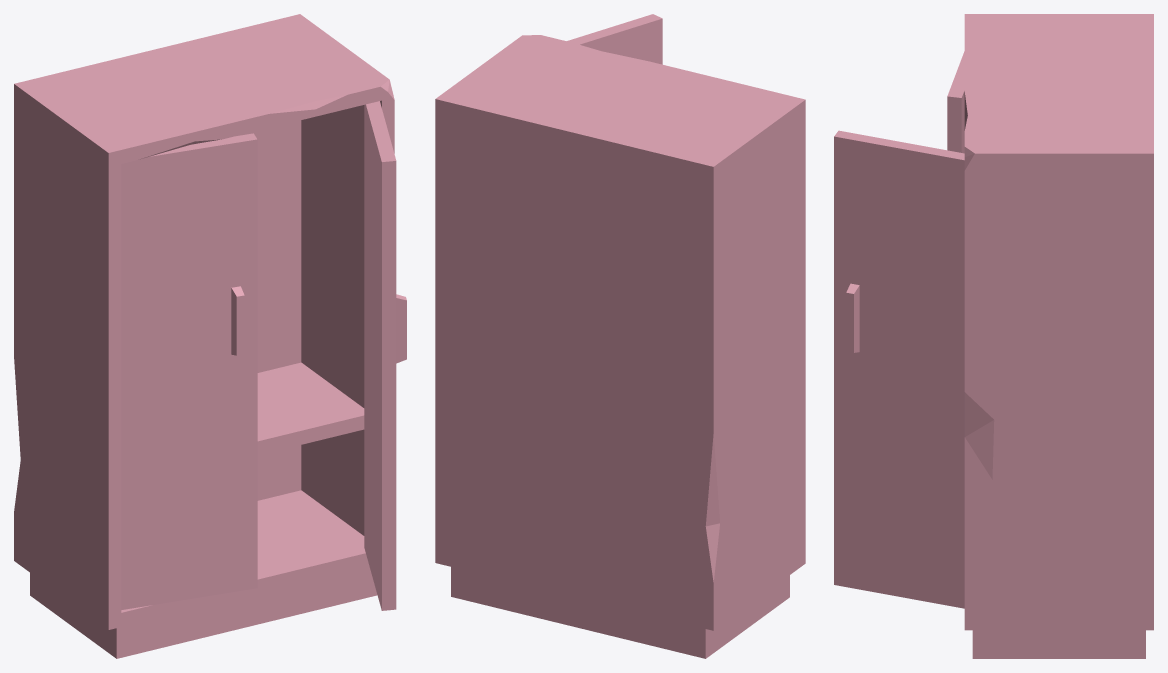
The model's file is ClosetOpen.fbx.
3 views of the same model, side by side, from view 1: azimuth 30°, elevation 25°; view 2: azimuth 150°, elevation 25°; view 3: azimuth 270°, elevation 25° (orthographic). The views are drawn at different scales.
Visible parts, largest first — view 1: ClosetOpen; view 2: ClosetOpen; view 3: ClosetOpen.
Boxes of the visible parts, x1,y1,x2,y2 form: ClosetOpen: [14, 14, 406, 658]; ClosetOpen: [435, 14, 805, 658]; ClosetOpen: [834, 14, 1153, 658].
Size of the model in its own units: 120 by 205 by 116.
